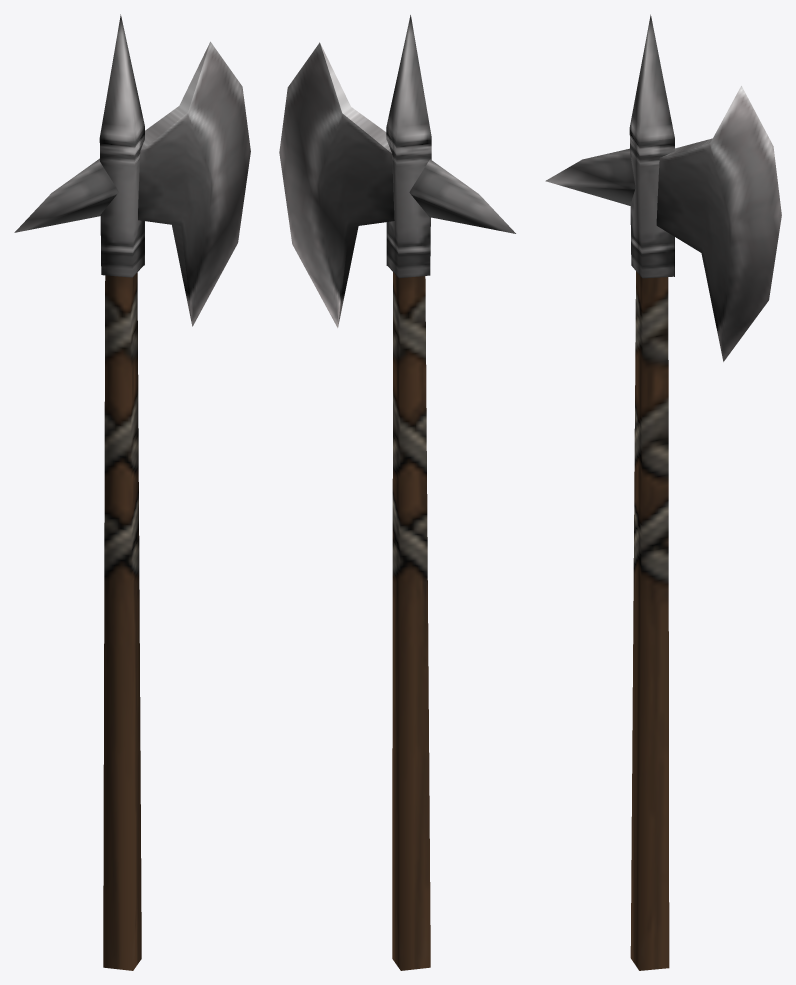
File: halberd.FBX
3 views of the same model, side by side, from view 1: azimuth 30°, elevation 25°; view 2: azimuth 150°, elevation 25°; view 3: azimuth 330°, elevation 25° (orthographic).
Visible parts, largest first — view 1: halberd; view 2: halberd; view 3: halberd.
Boxes of the visible parts, box(x1,y1,x2,y2) form: halberd: box(14, 14, 250, 970); halberd: box(279, 15, 515, 970); halberd: box(545, 14, 781, 970).
Bounding box in the file's own units: 20.26 × 77.54 × 3.77.
